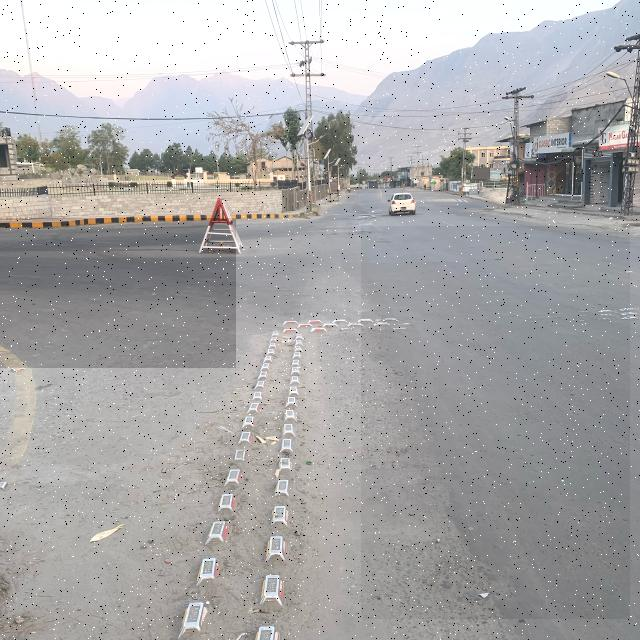left: (0, 218, 236, 368)
straight: (361, 226, 630, 619)
